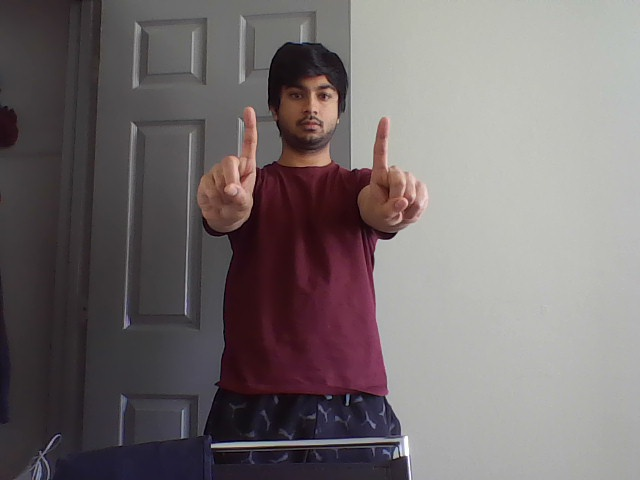one: (357, 114, 434, 234), (195, 105, 265, 233)
